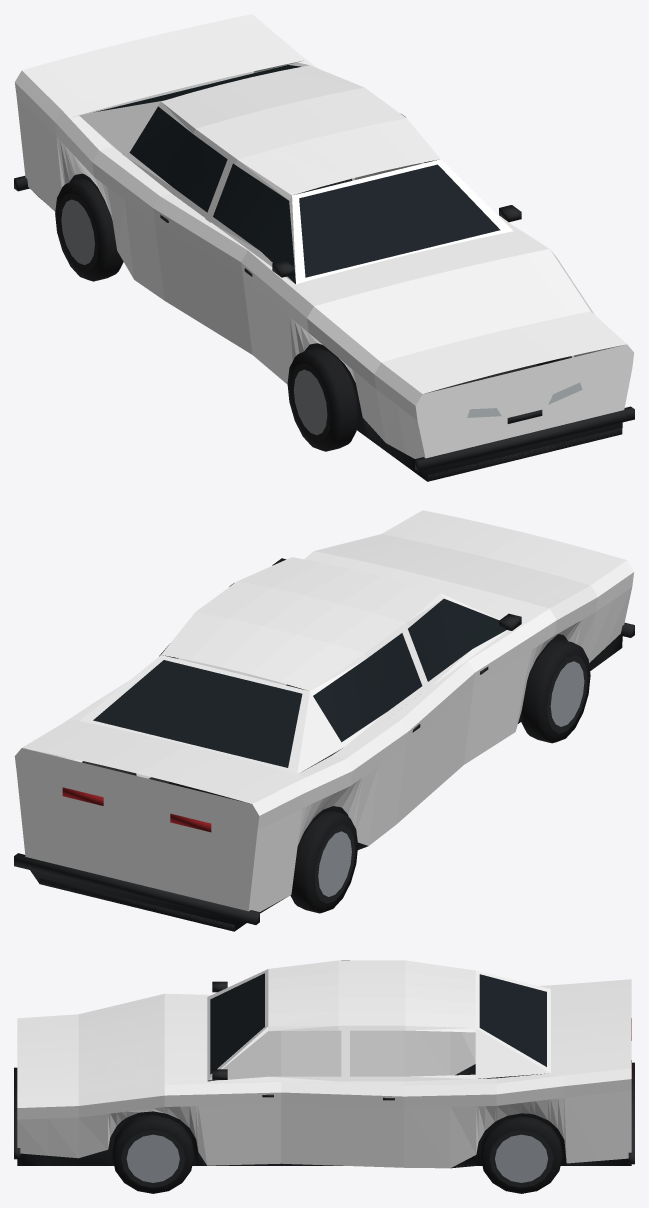
File: bancroft_caravela.glb
3 renders of one model, top to bottom at view 1: azimuth 30°, elevation 25°; view 2: azimuth 150°, elevation 25°; view 3: azimuth 270°, elevation 25°, orthographic. The views are drawn at different scales.
Parts seen in each view (by area): view 1: Body_Paint, Body_Details, Mount_FrontLeft_Wheel_Details, Mount_RearLeft_Wheel_Details; view 2: Body_Paint, Body_Details, Mount_FrontLeft_Wheel_Details, Mount_RearLeft_Wheel_Details; view 3: Body_Paint, Body_Details, Mount_FrontRight_Wheel_Details, Mount_RearRight_Wheel_Details.
Boxes of the visible parts, box(x1,y1,x2,y2) form: Body_Paint: box(14, 14, 633, 458); Body_Details: box(14, 65, 634, 481); Mount_FrontLeft_Wheel_Details: box(287, 348, 358, 451); Mount_RearLeft_Wheel_Details: box(55, 178, 123, 281); Body_Paint: box(14, 510, 634, 911); Body_Details: box(14, 558, 634, 931); Mount_FrontLeft_Wheel_Details: box(520, 639, 590, 743); Mount_RearLeft_Wheel_Details: box(290, 810, 357, 913); Body_Paint: box(17, 960, 631, 1168); Body_Details: box(14, 973, 634, 1168); Mount_FrontRight_Wheel_Details: box(112, 1115, 194, 1193); Mount_RearRight_Wheel_Details: box(480, 1116, 562, 1193).
Bounding box in the file's own units: 2.03 × 1.46 × 5.3.
2 materials, 1 textured.
